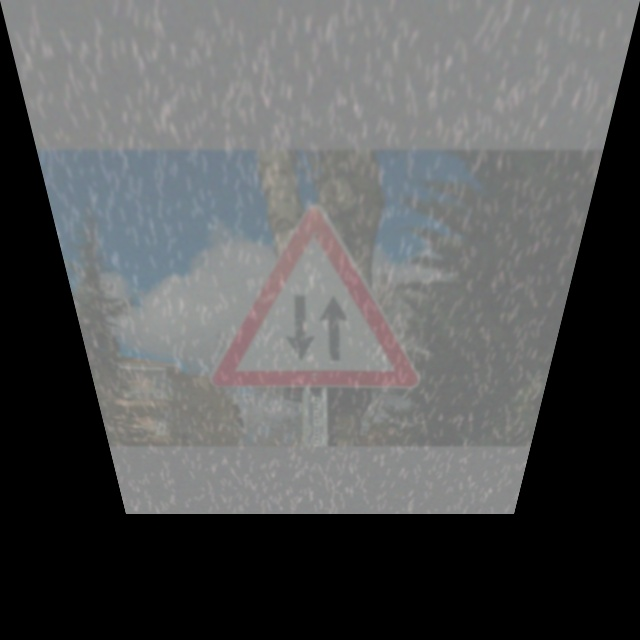Mandatory_Two_Way_Traffic: (190, 205, 439, 391)
